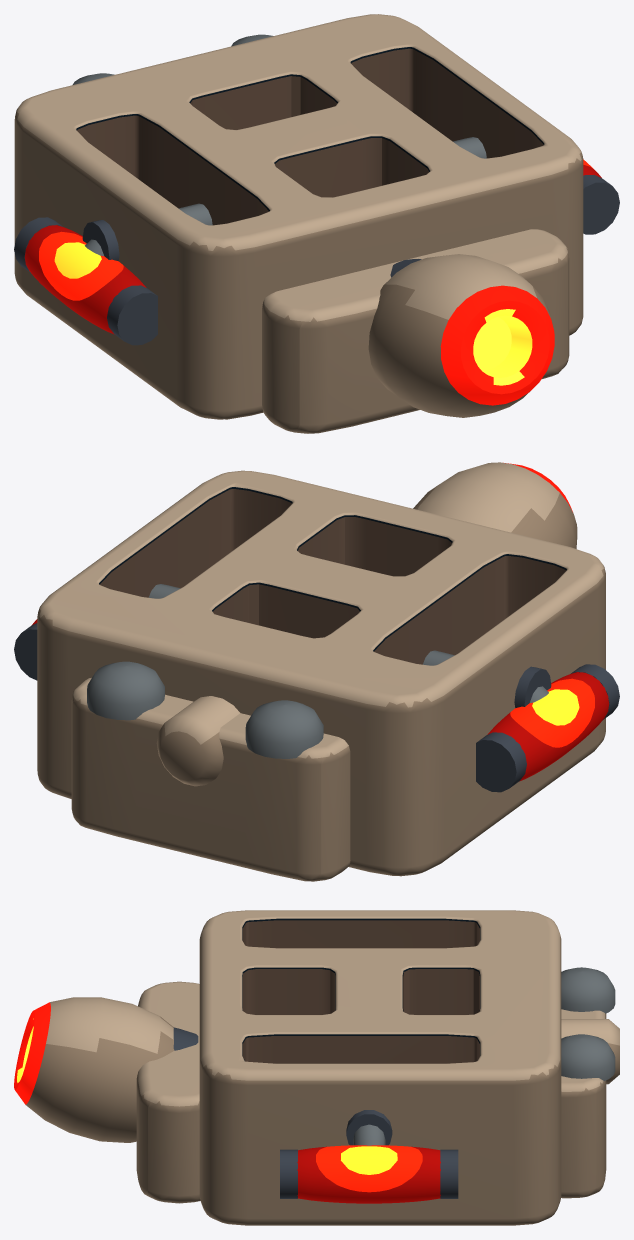
File: cage_turret_277.glb
The picture shows the model from 3 angles, top to bottom: view 1: azimuth 30°, elevation 25°; view 2: azimuth 150°, elevation 25°; view 3: azimuth 270°, elevation 25°; orthographic projection. The views are drawn at different scales.
Parts seen in each view (by area): view 1: body, gun, chin, lamp0, lamp_cap00, lamp_cap10, collar0, lamp_cap01, pipe0; view 2: body, back, gun, lamp0, stub, knob0, knob1, lamp_cap01, lamp_cap11, collar0, lamp_cap00; view 3: body, gun, chin, lamp1, back, knob1, knob0, stub, lamp_cap11, lamp_cap10, collar1, pipe1 (+1 smaller).
Boxes of the visible parts, left/top/right/bottom form: body: left=14, top=14, right=583, bottom=419; gun: left=368, top=254, right=554, bottom=417; chin: left=262, top=229, right=569, bottom=433; lamp0: left=24, top=225, right=146, bottom=334; lamp_cap00: left=107, top=285, right=157, bottom=345; lamp_cap10: left=583, top=175, right=619, bottom=234; collar0: left=82, top=220, right=119, bottom=261; lamp_cap01: left=14, top=217, right=62, bottom=272; pipe0: left=85, top=203, right=212, bottom=255; body: left=37, top=470, right=605, bottom=876; back: left=71, top=678, right=350, bottom=881; gun: left=413, top=462, right=577, bottom=548; lamp0: left=487, top=672, right=609, bottom=781; stub: left=156, top=696, right=239, bottom=786; knob0: left=245, top=700, right=323, bottom=758; knob1: left=87, top=661, right=164, bottom=720; lamp_cap01: left=476, top=732, right=526, bottom=792; lamp_cap11: left=14, top=623, right=37, bottom=680; collar0: left=514, top=666, right=551, bottom=707; lamp_cap00: left=571, top=664, right=619, bottom=719; body: left=199, top=910, right=561, bottom=1225; gun: left=14, top=997, right=174, bottom=1142; chin: left=136, top=981, right=200, bottom=1203; lamp1: left=297, top=1145, right=440, bottom=1203; back: left=561, top=1009, right=606, bottom=1198; knob1: left=561, top=1034, right=615, bottom=1080; knob0: left=561, top=967, right=615, bottom=1013; stub: left=561, top=1019, right=619, bottom=1084; lamp_cap11: left=440, top=1149, right=458, bottom=1198; lamp_cap10: left=280, top=1149, right=297, bottom=1198; collar1: left=346, top=1110, right=392, bottom=1145; pipe1: left=353, top=1124, right=385, bottom=1145.
Size of the model in its own units: 22.61 by 7.6 by 26.83.
